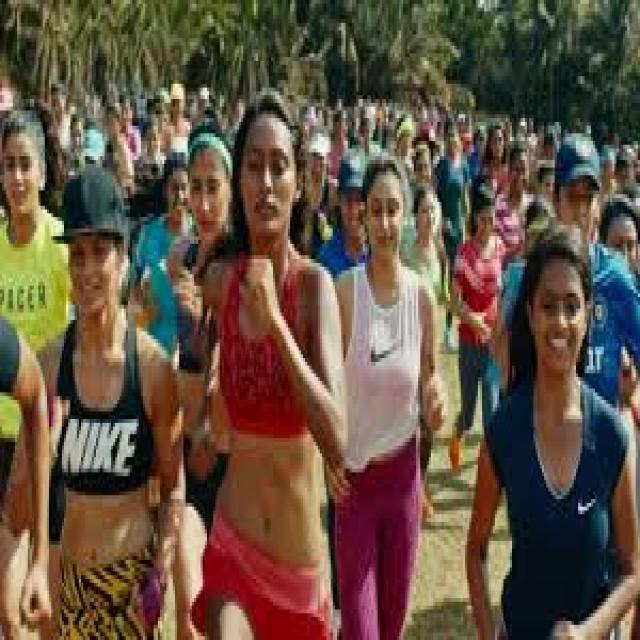Nike: (365, 337, 402, 369)
